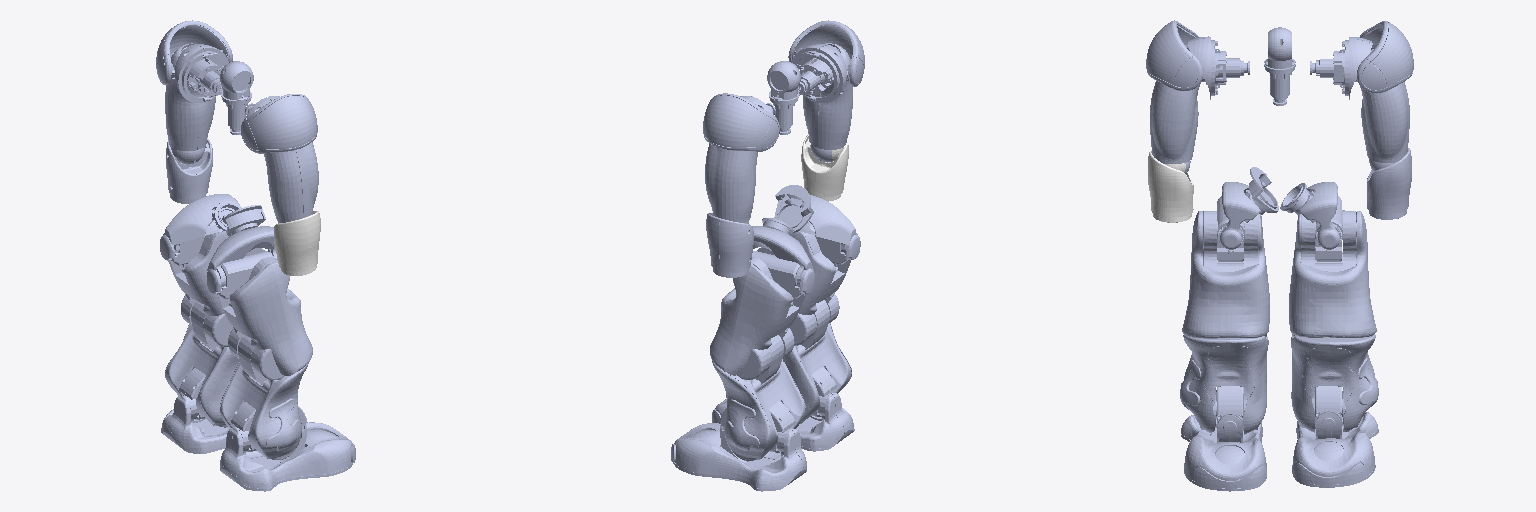
--- What the picture shows (computed from the rendered views, not written in the file) ---
3 views of the same robot in one strip: view 1: azimuth 30°, elevation 25°; view 2: azimuth 150°, elevation 25°; view 3: azimuth 270°, elevation 25° (orthographic).
Robot: NAO68 — 25 links, 24 joints (24 revolute); root link body; default pose: every joint at zero.
Visible links, largest first — view 1: right leg big, right arm big, right foot, right leg small, left arm big, left leg small, left leg big 2, right hip 1, right hand end, left foot, left hand, left hip (+6 smaller); view 2: left leg big 2, left arm big, left leg small, left foot, right arm big, right leg small, right hip 1, right leg big, left hand small, right hand, right foot, right hand end (+5 smaller); view 3: right leg big, left leg big 2, right arm big, left arm big, right leg small, left leg small, right foot, left foot, right hip 1, right hand end, left hand small, left hip (+7 smaller).
Boxes of the visible links, x1=… form: right leg big: x1=217, y1=248, x2=312, y2=379; right arm big: x1=241, y1=94, x2=318, y2=222; right foot: x1=220, y1=422, x2=355, y2=491; right leg small: x1=220, y1=335, x2=308, y2=459; left arm big: x1=156, y1=20, x2=232, y2=150; left leg small: x1=165, y1=301, x2=239, y2=427; left leg big 2: x1=168, y1=231, x2=232, y2=346; right hip 1: x1=207, y1=205, x2=277, y2=278; right hand end: x1=274, y1=211, x2=320, y2=275; left foot: x1=161, y1=395, x2=229, y2=453; left hand: x1=175, y1=44, x2=228, y2=102; left hip: x1=163, y1=194, x2=241, y2=250; left leg big 2: x1=710, y1=247, x2=805, y2=379; left arm big: x1=703, y1=93, x2=779, y2=222; left leg small: x1=712, y1=335, x2=805, y2=460; left foot: x1=671, y1=423, x2=806, y2=491; right arm big: x1=788, y1=20, x2=864, y2=149; right leg small: x1=783, y1=300, x2=851, y2=423; right hip 1: x1=774, y1=185, x2=857, y2=249; right leg big: x1=789, y1=231, x2=850, y2=345; left hand small: x1=706, y1=213, x2=753, y2=277; right hand: x1=792, y1=44, x2=846, y2=102; right foot: x1=712, y1=392, x2=854, y2=451; right hand end: x1=801, y1=134, x2=848, y2=201; right leg big: x1=1182, y1=211, x2=1269, y2=338; left leg big 2: x1=1289, y1=210, x2=1376, y2=337; right arm big: x1=1146, y1=20, x2=1202, y2=163; left arm big: x1=1357, y1=21, x2=1413, y2=162; right leg small: x1=1180, y1=335, x2=1268, y2=434; left leg small: x1=1291, y1=334, x2=1378, y2=432; right foot: x1=1181, y1=390, x2=1266, y2=491; left foot: x1=1292, y1=391, x2=1378, y2=487; right hip 1: x1=1218, y1=167, x2=1278, y2=249; right hand end: x1=1148, y1=150, x2=1193, y2=222; left hand small: x1=1367, y1=148, x2=1411, y2=219; left hip: x1=1280, y1=182, x2=1341, y2=249.
Bounding box of the posed robot: 0.1784 × 0.2797 × 0.4867 m (x, y, z).
21 mesh visuals loaded from 25 distinct referenced files (21 binary STL); not drawn: 4 (reference not matched to a file when rendering).

The robot description file, URDF, robot "NAO68":
<?xml version="1.0" encoding="utf-8"?>
<!-- This URDF was automatically created by SolidWorks to URDF Exporter! Originally created by Stephen Brawner ([email redacted]) 
     Commit Version: 1.6.0-4-g7f85cfe  Build Version: 1.6.7995.38578
     For more information, please see http://wiki.ros.org/sw_urdf_exporter -->
<robot
  name="NAO68">
  <link
    name="body">
    <inertial>
      <origin
        xyz="0 0 0"
        rpy="0 0 0" />
      <mass
        value="1.73988259377685E-17" />
      <inertia
        ixx="4.1555891513169E-20"
        ixy="2.32846932315302E-22"
        ixz="-1.35584681408591E-23"
        iyy="2.46093777747506E-20"
        iyz="-9.18564243044319E-23"
        izz="2.30289113809148E-20" />
    </inertial>
    <visual>
      <origin
        xyz="0 0 0"
        rpy="0 0 0" />
      <geometry>
        <mesh
          filename="package://NAO68/meshes/body.STL" />
      </geometry>
      <material
        name="">
        <color
          rgba="1 1 1 1" />
      </material>
    </visual>
    <collision>
      <origin
        xyz="0 0 0"
        rpy="0 0 0" />
      <geometry>
        <mesh
          filename="package://NAO68/meshes/body.STL" />
      </geometry>
    </collision>
  </link>
  <link
    name="head1">
    <inertial>
      <origin
        xyz="6.25372997664631E-07 0.000158371027097426 -0.0181638535919461"
        rpy="0 0 0" />
      <mass
        value="3.64829046451713E-18" />
      <inertia
        ixx="1.6339605473873E-21"
        ixy="2.76456201754414E-26"
        ixz="1.79084557882726E-25"
        iyy="1.69964135382535E-21"
        iyz="-5.63817700649132E-24"
        izz="3.63773672347732E-22" />
    </inertial>
    <visual>
      <origin
        xyz="0 0 0"
        rpy="0 0 0" />
      <geometry>
        <mesh
          filename="package://NAO68/meshes/head1.STL" />
      </geometry>
      <material
        name="">
        <color
          rgba="0.792156862745098 0.819607843137255 0.933333333333333 1" />
      </material>
    </visual>
    <collision>
      <origin
        xyz="0 0 0"
        rpy="0 0 0" />
      <geometry>
        <mesh
          filename="package://NAO68/meshes/head1.STL" />
      </geometry>
    </collision>
  </link>
  <joint
    name="neck"
    type="revolute">
    <origin
      xyz="0.47504 -0.47689 0.58122"
      rpy="0 0 0.0017099" />
    <parent
      link="body" />
    <child
      link="head1" />
    <axis
      xyz="0 0 -1" />
    <limit
      lower="-3.14"
      upper="3.14"
      effort="0"
      velocity="0" />
  </joint>
  <link
    name="head2">
    <inertial>
      <origin
        xyz="-0.474220313904524 0.581224229153061 0.477705818477059"
        rpy="0 0 0" />
      <mass
        value="1.11438377083869E-17" />
      <inertia
        ixx="1.85775699859269E-20"
        ixy="1.11395918027865E-21"
        ixz="-1.12557586572029E-22"
        iyy="1.84946247546707E-20"
        iyz="-4.54506669612874E-23"
        izz="1.34829394346157E-20" />
    </inertial>
    <visual>
      <origin
        xyz="0 0 0"
        rpy="0 0 0" />
      <geometry>
        <mesh
          filename="package://NAO68/meshes/head2.STL" />
      </geometry>
      <material
        name="">
        <color
          rgba="0.792156862745098 0.819607843137255 0.933333333333333 1" />
      </material>
    </visual>
    <collision>
      <origin
        xyz="0 0 0"
        rpy="0 0 0" />
      <geometry>
        <mesh
          filename="package://NAO68/meshes/head2.STL" />
      </geometry>
    </collision>
  </link>
  <joint
    name="neck2"
    type="revolute">
    <origin
      xyz="0 0 0"
      rpy="-1.5708 0 0" />
    <parent
      link="head1" />
    <child
      link="head2" />
    <axis
      xyz="0 0 -1" />
    <limit
      lower="-3.14"
      upper="3.14"
      effort="0"
      velocity="0" />
  </joint>
  <link
    name="left hand">
    <inertial>
      <origin
        xyz="0.000231357564223156 -0.00190218499329953 -0.0197769966525416"
        rpy="0 0 0" />
      <mass
        value="5.5595930385648E-18" />
      <inertia
        ixx="2.61247563040612E-21"
        ixy="-7.83803479971208E-24"
        ixz="-1.5501611725242E-23"
        iyy="2.43764737848018E-21"
        iyz="3.11393945946181E-23"
        izz="1.26967231032274E-21" />
    </inertial>
    <visual>
      <origin
        xyz="0 0 0"
        rpy="0 0 0" />
      <geometry>
        <mesh
          filename="package://NAO68/meshes/left hand.STL" />
      </geometry>
      <material
        name="">
        <color
          rgba="0.792156862745098 0.819607843137255 0.933333333333333 1" />
      </material>
    </visual>
    <collision>
      <origin
        xyz="0 0 0"
        rpy="0 0 0" />
      <geometry>
        <mesh
          filename="package://NAO68/meshes/left hand.STL" />
      </geometry>
    </collision>
  </link>
  <joint
    name="shoulder1"
    type="revolute">
    <origin
      xyz="0.47504 -0.37893 0.55497"
      rpy="-1.5708 0 0" />
    <parent
      link="body" />
    <child
      link="left hand" />
    <axis
      xyz="0 0 -1" />
    <limit
      lower="-3.14"
      upper="3.14"
      effort="0"
      velocity="0" />
  </joint>
  <link
    name="left arm big">
    <inertial>
      <origin
        xyz="-0.546835137086555 -0.378932244590865 -0.484383496439525"
        rpy="0 0 0" />
      <mass
        value="1.98144086306489E-17" />
      <inertia
        ixx="8.56847844201776E-21"
        ixy="-3.45459830960897E-22"
        ixz="-1.42217513387006E-22"
        iyy="1.70024836057973E-20"
        iyz="-1.88487359475286E-23"
        izz="1.46085641985287E-20" />
    </inertial>
    <visual>
      <origin
        xyz="0 0 0"
        rpy="0 0 0" />
      <geometry>
        <mesh
          filename="package://NAO68/meshes/left arm big.STL" />
      </geometry>
      <material
        name="">
        <color
          rgba="0.792156862745098 0.819607843137255 0.933333333333333 1" />
      </material>
    </visual>
    <collision>
      <origin
        xyz="0 0 0"
        rpy="0 0 0" />
      <geometry>
        <mesh
          filename="package://NAO68/meshes/left arm big.STL" />
      </geometry>
    </collision>
  </link>
  <joint
    name="left arm1"
    type="revolute">
    <origin
      xyz="0 0 0"
      rpy="-1.5708 0 -1.5878" />
    <parent
      link="left hand" />
    <child
      link="left arm big" />
    <axis
      xyz="0 0 -1" />
    <limit
      lower="-3.14"
      upper="3.14"
      effort="0"
      velocity="0" />
  </joint>
  <link
    name="left arm wrist">
    <inertial>
      <origin
        xyz="-0.000300627987979141 6.42422987140456E-07 0.0169080996055426"
        rpy="0 0 0" />
      <mass
        value="3.90413440836974E-18" />
      <inertia
        ixx="1.9166000225257E-21"
        ixy="1.1680714133564E-26"
        ixz="-1.79256871620132E-23"
        iyy="1.82365586206386E-21"
        iyz="-7.54555405748239E-26"
        izz="3.89968200127217E-22" />
    </inertial>
    <visual>
      <origin
        xyz="0 0 0"
        rpy="0 0 0" />
      <geometry>
        <mesh
          filename="package://NAO68/meshes/left arm wrist.STL" />
      </geometry>
      <material
        name="">
        <color
          rgba="0.792156862745098 0.819607843137255 0.933333333333333 1" />
      </material>
    </visual>
    <collision>
      <origin
        xyz="0 0 0"
        rpy="0 0 0" />
      <geometry>
        <mesh
          filename="package://NAO68/meshes/left arm wrist.STL" />
      </geometry>
    </collision>
  </link>
  <joint
    name="left arm small 2"
    type="revolute">
    <origin
      xyz="-0.10491 -0.013997 0.00030335"
      rpy="-1.5708 1.5058 -1.5541" />
    <parent
      link="left arm big" />
    <child
      link="left arm wrist" />
    <axis
      xyz="0 0 -1" />
    <limit
      lower="-3.14"
      upper="3.14"
      effort="0"
      velocity="0" />
  </joint>
  <link
    name="left hand small">
    <inertial>
      <origin
        xyz="0.32634 0.44718 0.50689"
        rpy="0 0 0" />
      <mass
        value="6.9084E-18" />
      <inertia
        ixx="1.78E-21"
        ixy="2.0992E-22"
        ixz="-6.6334E-24"
        iyy="1.6795E-21"
        iyz="-1.6648E-23"
        izz="2.2124E-21" />
    </inertial>
    <visual>
      <origin
        xyz="0 0 0"
        rpy="0 0 0" />
      <geometry>
        <mesh
          filename="package://NAO68/meshes/left hand small.STL" />
      </geometry>
      <material
        name="">
        <color
          rgba="0.79216 0.81961 0.93333 1" />
      </material>
    </visual>
    <collision>
      <origin
        xyz="0 0 0"
        rpy="0 0 0" />
      <geometry>
        <mesh
          filename="package://NAO68/meshes/left hand small.STL" />
      </geometry>
    </collision>
  </link>
  <joint
    name="left wrist"
    type="revolute">
    <origin
      xyz="0 0 0"
      rpy="-1.5708 0.0023733 -1.5708" />
    <parent
      link="left arm wrist" />
    <child
      link="left hand small" />
    <axis
      xyz="0 0 1" />
    <limit
      lower="-3.14"
      upper="3.14"
      effort="0"
      velocity="0" />
  </joint>
  <link
    name="left hand end">
    <inertial>
      <origin
        xyz="0.37464 0.47231 -0.33393"
        rpy="0 0 0" />
      <mass
        value="6.2068E-18" />
      <inertia
        ixx="4.3852E-21"
        ixy="-4.4671E-24"
        ixz="5.6214E-22"
        iyy="3.7566E-21"
        iyz="9.5437E-25"
        izz="2.4434E-21" />
    </inertial>
    <visual>
      <origin
        xyz="0 0 0"
        rpy="0 0 0" />
      <geometry>
        <mesh
          filename="package://NAO68/meshes/left hand end.STL" />
      </geometry>
      <material
        name="">
        <color
          rgba="1 1 1 1" />
      </material>
    </visual>
    <collision>
      <origin
        xyz="0 0 0"
        rpy="0 0 0" />
      <geometry>
        <mesh
          filename="package://NAO68/meshes/left hand end.STL" />
      </geometry>
    </collision>
  </link>
  <joint
    name="left hand 2"
    type="revolute">
    <origin
      xyz="0 0.11325 0"
      rpy="1.5708 -0.098584 0" />
    <parent
      link="left hand small" />
    <child
      link="left hand end" />
    <axis
      xyz="0 0 1" />
    <limit
      lower="-3.14"
      upper="3.14"
      effort="0"
      velocity="0" />
  </joint>
  <link
    name="right hand">
    <inertial>
      <origin
        xyz="-0.000336724530452581 -0.00192396358407243 0.0192366627225955"
        rpy="0 0 0" />
      <mass
        value="5.17411528603493E-18" />
      <inertia
        ixx="2.36457520392244E-21"
        ixy="-7.96302539666317E-24"
        ixz="3.73716448794011E-24"
        iyy="2.23773220475309E-21"
        iyz="-3.38012344701264E-23"
        izz="1.21109559600572E-21" />
    </inertial>
    <visual>
      <origin
        xyz="0 0 0"
        rpy="0 0 0" />
      <geometry>
        <mesh
          filename="package://NAO68/meshes/right hand.STL" />
      </geometry>
      <material
        name="">
        <color
          rgba="0.792156862745098 0.819607843137255 0.933333333333333 1" />
      </material>
    </visual>
    <collision>
      <origin
        xyz="0 0 0"
        rpy="0 0 0" />
      <geometry>
        <mesh
          filename="package://NAO68/meshes/right hand.STL" />
      </geometry>
    </collision>
  </link>
  <joint
    name="shoulder2"
    type="revolute">
    <origin
      xyz="0.47504 -0.57484 0.55497"
      rpy="-1.5708 0 0" />
    <parent
      link="body" />
    <child
      link="right hand" />
    <axis
      xyz="0 0 1" />
    <limit
      lower="-3.14"
      upper="3.14"
      effort="0"
      velocity="0" />
  </joint>
  <link
    name="right arm big">
    <inertial>
      <origin
        xyz="-0.511845444117378 -0.574837035011824 -0.521219992048967"
        rpy="0 0 0" />
      <mass
        value="1.64846561332705E-17" />
      <inertia
        ixx="7.69423813547866E-21"
        ixy="6.72217182520053E-22"
        ixz="-4.91053600395591E-22"
        iyy="1.41287894080308E-20"
        iyz="8.34174928713744E-23"
        izz="1.20294459318915E-20" />
    </inertial>
    <visual>
      <origin
        xyz="0 0 0"
        rpy="0 0 0" />
      <geometry>
        <mesh
          filename="package://NAO68/meshes/right arm big.STL" />
      </geometry>
      <material
        name="">
        <color
          rgba="0.792156862745098 0.819607843137255 0.933333333333333 1" />
      </material>
    </visual>
    <collision>
      <origin
        xyz="0 0 0"
        rpy="0 0 0" />
      <geometry>
        <mesh
          filename="package://NAO68/meshes/right arm big.STL" />
      </geometry>
    </collision>
  </link>
  <joint
    name="right arm big 1"
    type="revolute">
    <origin
      xyz="0 0 0"
      rpy="-1.5708 0 -1.6573" />
    <parent
      link="right hand" />
    <child
      link="right arm big" />
    <axis
      xyz="0 0 1" />
    <limit
      lower="-3.14"
      upper="3.14"
      effort="0"
      velocity="0" />
  </joint>
  <link
    name="right arm wirst">
    <inertial>
      <origin
        xyz="0.000236701999197231 2.20681250820975E-05 0.0147214372394816"
        rpy="0 0 0" />
      <mass
        value="3.88316586076598E-18" />
      <inertia
        ixx="1.56210679101218E-21"
        ixy="-1.49422899815827E-26"
        ixz="-1.87170923977323E-23"
        iyy="1.64750762458163E-21"
        iyz="-8.86395640723124E-25"
        izz="3.99134229996595E-22" />
    </inertial>
    <visual>
      <origin
        xyz="0 0 0"
        rpy="0 0 0" />
      <geometry>
        <mesh
          filename="package://NAO68/meshes/right arm wirst.STL" />
      </geometry>
      <material
        name="">
        <color
          rgba="0.792156862745098 0.819607843137255 0.933333333333333 1" />
      </material>
    </visual>
    <collision>
      <origin
        xyz="0 0 0"
        rpy="0 0 0" />
      <geometry>
        <mesh
          filename="package://NAO68/meshes/right arm wirst.STL" />
      </geometry>
    </collision>
  </link>
  <joint
    name="right arm amall 2"
    type="revolute">
    <origin
      xyz="-0.10487 0.014266 0.0003"
      rpy="-1.5704 0.025456 -1.5739" />
    <parent
      link="right arm big" />
    <child
      link="right arm wirst" />
    <axis
      xyz="0.016083 0 0.99987" />
    <limit
      lower="-3.14"
      upper="3.14"
      effort="0"
      velocity="0" />
  </joint>
  <link
    name="right hand end">
    <inertial>
      <origin
        xyz="-0.00303056176871253 0.0284832083389335 -0.00320249750533108"
        rpy="0 0 0" />
      <mass
        value="6.15908776621831E-18" />
      <inertia
        ixx="2.76815214633173E-21"
        ixy="-3.27353309952699E-22"
        ixz="2.70178708356602E-23"
        iyy="2.12707644918625E-21"
        iyz="-3.42237470670638E-23"
        izz="2.56318869796249E-21" />
    </inertial>
    <visual>
      <origin
        xyz="0 0 0"
        rpy="0 0 0" />
      <geometry>
        <mesh
          filename="package://NAO68/meshes/right hand end.STL" />
      </geometry>
      <material
        name="">
        <color
          rgba="1 1 1 1" />
      </material>
    </visual>
    <collision>
      <origin
        xyz="0 0 0"
        rpy="0 0 0" />
      <geometry>
        <mesh
          filename="package://NAO68/meshes/right hand end.STL" />
      </geometry>
    </collision>
  </link>
  <joint
    name="right hand 2"
    type="revolute">
    <origin
      xyz="0 0 0"
      rpy="-1.4848 0 0" />
    <parent
      link="right arm wirst" />
    <child
      link="right hand end" />
    <axis
      xyz="0 0.085844 0.99631" />
    <limit
      lower="-3.14"
      upper="3.14"
      effort="0"
      velocity="0" />
  </joint>
  <link
    name="right hand end 2">
    <inertial>
      <origin
        xyz="0.596996608774289 0.51377159863588 -0.291824876447589"
        rpy="0 0 0" />
      <mass
        value="6.20674431300642E-18" />
      <inertia
        ixx="4.38547970342589E-21"
        ixy="-4.43103555154008E-24"
        ixz="-5.62196034976773E-22"
        iyy="3.75667597489994E-21"
        iyz="-8.13895904431975E-25"
        izz="2.443576685909E-21" />
    </inertial>
    <visual>
      <origin
        xyz="0 0 0"
        rpy="0 0 0" />
      <geometry>
        <mesh
          filename="package://NAO68/meshes/right hand end 2.STL" />
      </geometry>
      <material
        name="">
        <color
          rgba="1 1 1 1" />
      </material>
    </visual>
    <collision>
      <origin
        xyz="0 0 0"
        rpy="0 0 0" />
      <geometry>
        <mesh
          filename="package://NAO68/meshes/right hand end 2.STL" />
      </geometry>
    </collision>
  </link>
  <joint
    name="right hand end 3"
    type="revolute">
    <origin
      xyz="0 0.113080427602968 -0.00975022528825331"
      rpy="1.48477836109706 0.0126377571856202 -0.00108973380374061" />
    <parent
      link="right hand end" />
    <child
      link="right hand end 2" />
    <axis
      xyz="0 0 1" />
    <limit
      lower="-3.14"
      upper="3.14"
      effort="0"
      velocity="0" />
  </joint>
  <link
    name="left hip">
    <inertial>
      <origin
        xyz="0.040248522118935 0.475036465706723 -0.63418177283438"
        rpy="0 0 0" />
      <mass
        value="4.52057686722953E-18" />
      <inertia
        ixx="2.66103426708217E-21"
        ixy="1.40907172878585E-22"
        ixz="-1.59225535701849E-23"
        iyy="1.03483165824365E-21"
        iyz="2.7561310564608E-22"
        izz="2.68598934049288E-21" />
    </inertial>
    <visual>
      <origin
        xyz="0 0 0"
        rpy="0 0 0" />
      <geometry>
        <mesh
          filename="package://NAO68/meshes/left hip.STL" />
      </geometry>
      <material
        name="">
        <color
          rgba="0.792156862745098 0.819607843137255 0.933333333333333 1" />
      </material>
    </visual>
    <collision>
      <origin
        xyz="0 0 0"
        rpy="0 0 0" />
      <geometry>
        <mesh
          filename="package://NAO68/meshes/left hip.STL" />
      </geometry>
    </collision>
  </link>
  <joint
    name="left hip 2"
    type="revolute">
    <origin
      xyz="0.475036465706723 -0.476894234999137 0.419974229153056"
      rpy="0 -0.785398163397459 1.5707963267949" />
    <parent
      link="body" />
    <child
      link="left hip" />
    <axis
      xyz="0 0 1" />
    <limit
      lower="-3.14"
      upper="3.14"
      effort="0"
      velocity="0" />
  </joint>
  <link
    name="left leg big">
    <inertial>
      <origin
        xyz="-0.00462883953431759 -0.00473141052475978 -0.0171568126005021"
        rpy="0 0 0" />
      <mass
        value="9.03902183483721E-18" />
      <inertia
        ixx="5.38838650076551E-21"
        ixy="-4.20398726191118E-22"
        ixz="4.33565885208545E-22"
        iyy="5.40567192504222E-21"
        iyz="4.62144860828014E-22"
        izz="2.02631345532162E-21" />
    </inertial>
    <visual>
      <origin
        xyz="0 0 0"
        rpy="0 0 0" />
      <geometry>
        <mesh
          filename="package://NAO68/meshes/left leg big.STL" />
      </geometry>
      <material
        name="">
        <color
          rgba="0.792156862745098 0.819607843137255 0.933333333333333 1" />
      </material>
    </visual>
    <collision>
      <origin
        xyz="0 0 0"
        rpy="0 0 0" />
      <geometry>
        <mesh
          filename="package://NAO68/meshes/left leg big.STL" />
      </geometry>
    </collision>
  </link>
  <joint
    name="left leg big 1"
    type="revolute">
    <origin
      xyz="0 0.00109999869500277 -0.0724799999999993"
      rpy="1.5707963267949 0 0" />
    <parent
      link="left hip" />
    <child
      link="left leg big" />
    <axis
      xyz="0.0017029359842846 0 0.999998550003465" />
    <limit
      lower="-3.14"
      upper="3.14"
      effort="0"
      velocity="0" />
  </joint>
  <link
    name="left leg big 2">
    <inertial>
      <origin
        xyz="-0.366829400441054 -0.473867236538863 0.427353198635747"
        rpy="0 0 0" />
      <mass
        value="3.03744060462066E-17" />
      <inertia
        ixx="2.28496700257108E-20"
        ixy="4.78902359098332E-21"
        ixz="-1.50368297604557E-21"
        iyy="4.93510120716424E-20"
        iyz="2.42404389632594E-22"
        izz="3.9570590365604E-20" />
    </inertial>
    <visual>
      <origin
        xyz="0 0 0"
        rpy="0 0 0" />
      <geometry>
        <mesh
          filename="package://NAO68/meshes/left leg big 2.STL" />
      </geometry>
      <material
        name="">
        <color
          rgba="0.792156862745098 0.819607843137255 0.933333333333333 1" />
      </material>
    </visual>
    <collision>
      <origin
        xyz="0 0 0"
        rpy="0 0 0" />
      <geometry>
        <mesh
          filename="package://NAO68/meshes/left leg big 2.STL" />
      </geometry>
    </collision>
  </link>
  <joint
    name="left leg big 3"
    type="revolute">
    <origin
      xyz="0 0 0"
      rpy="1.57199674981344 0.00120788205022478 0.78230132291305" />
    <parent
      link="left leg big" />
    <child
      link="left leg big 2" />
    <axis
      xyz="0 0 -1" />
    <limit
      lower="-3.14"
      upper="3.14"
      effort="0"
      velocity="0" />
  </joint>
  <link
    name="left leg small">
    <inertial>
      <origin
        xyz="-0.257088071600062 -0.480438920947403 0.426753198635746"
        rpy="0 0 0" />
      <mass
        value="2.17324013064851E-17" />
      <inertia
        ixx="1.0643034248658E-20"
        ixy="-2.90244026684464E-21"
        ixz="6.88609899186874E-22"
        iyy="3.74338644340874E-20"
        iyz="1.42314353018173E-22"
        izz="3.55875077181444E-20" />
    </inertial>
    <visual>
      <origin
        xyz="0 0 0"
        rpy="0 0 0" />
      <geometry>
        <mesh
          filename="package://NAO68/meshes/left leg small.STL" />
      </geometry>
      <material
        name="">
        <color
          rgba="0.792156862745098 0.819607843137255 0.933333333333333 1" />
      </material>
    </visual>
    <collision>
      <origin
        xyz="0 0 0"
        rpy="0 0 0" />
      <geometry>
        <mesh
          filename="package://NAO68/meshes/left leg small.STL" />
      </geometry>
    </collision>
  </link>
  <joint
    name="left ankle 2"
    type="revolute">
    <origin
      xyz="-0.0999924847971221 0.00122632663556776 0.000600000000000822"
      rpy="0 0 -0.0204043420180219" />
    <parent
      link="left leg big 2" />
    <child
      link="left leg small" />
    <axis
      xyz="0 0 1" />
    <limit
      lower="-3.14"
      upper="3.14"
      effort="0"
      velocity="0" />
  </joint>
  <link
    name="left ankle">
    <inertial>
      <origin
        xyz="-0.17232 -0.47488 0.42715"
        rpy="0 0 0" />
      <mass
        value="1.3015E-17" />
      <inertia
        ixx="4.8549E-21"
        ixy="2.5763E-22"
        ixz="5.9846E-24"
        iyy="4.146E-21"
        iyz="-3.5174E-24"
        izz="7.0988E-21" />
    </inertial>
    <visual>
      <origin
        xyz="0 0 0"
        rpy="0 0 0" />
      <geometry>
        <mesh
          filename="package://NAO68/meshes/left ankle.STL" />
      </geometry>
      <material
        name="">
        <color
          rgba="0.79216 0.81961 0.93333 1" />
      </material>
    </visual>
    <collision>
      <origin
        xyz="0 0 0"
        rpy="0 0 0" />
      <geometry>
        <mesh
          filename="package://NAO68/meshes/left ankle.STL" />
      </geometry>
    </collision>
  </link>
  <joint
    name="left ankle2"
    type="revolute">
    <origin
      xyz="-0.102746579116211 0.000583796208956766 -0.000399999999999623"
      rpy="0 0 0.0376068198832301" />
    <parent
      link="left leg small" />
    <child
      link="left ankle" />
    <axis
      xyz="0 0 -1" />
    <limit
      lower="-3.14"
      upper="3.14"
      effort="0"
      velocity="0" />
  </joint>
  <link
    name="left foot">
    <inertial>
      <origin
        xyz="-0.03219 0.0042166 -0.031058"
        rpy="0 0 0" />
      <mass
        value="2.1641E-17" />
      <inertia
        ixx="5.1574E-20"
        ixy="2.4046E-23"
        ixz="-1.1553E-22"
        iyy="4.4176E-20"
        iyz="-1.2733E-21"
        izz="1.2071E-20" />
    </inertial>
    <visual>
      <origin
        xyz="0 0 0"
        rpy="0 0 0" />
      <geometry>
        <mesh
          filename="package://NAO68/meshes/left foot.STL" />
      </geometry>
      <material
        name="">
        <color
          rgba="0.79216 0.81961 0.93333 1" />
      </material>
    </visual>
    <collision>
      <origin
        xyz="0 0 0"
        rpy="0 0 0" />
      <geometry>
        <mesh
          filename="package://NAO68/meshes/left foot.STL" />
      </geometry>
    </collision>
  </link>
  <joint
    name="left foot 2"
    type="revolute">
    <origin
      xyz="0 0 0"
      rpy="1.5708 0 0" />
    <parent
      link="left ankle" />
    <child
      link="left foot" />
    <axis
      xyz="0 0 -1" />
    <limit
      lower="-3.14"
      upper="3.14"
      effort="0"
      velocity="0" />
  </joint>
  <link
    name="right hip 1">
    <inertial>
      <origin
        xyz="0.63418177283438 0.475036465706723 0.040248522118935"
        rpy="0 0 0" />
      <mass
        value="5.24861974936838E-18" />
      <inertia
        ixx="2.75482218587176E-21"
        ixy="-1.43700119366448E-22"
        ixz="6.22372284374278E-23"
        iyy="1.155826493167E-21"
        iyz="2.57593000748196E-22"
        izz="2.88289880541827E-21" />
    </inertial>
    <visual>
      <origin
        xyz="0 0 0"
        rpy="0 0 0" />
      <geometry>
        <mesh
          filename="package://NAO68/meshes/right hip 1.STL" />
      </geometry>
      <material
        name="">
        <color
          rgba="0.792156862745098 0.819607843137255 0.933333333333333 1" />
      </material>
    </visual>
    <collision>
      <origin
        xyz="0 0 0"
        rpy="0 0 0" />
      <geometry>
        <mesh
          filename="package://NAO68/meshes/right hip 1.STL" />
      </geometry>
    </collision>
  </link>
  <joint
    name="right hip 2"
    type="revolute">
    <origin
      xyz="0.475036465706723 -0.476894234999137 0.419974229153056"
      rpy="0 0.785398163397438 1.5707963267949" />
    <parent
      link="body" />
    <child
      link="right hip 1" />
    <axis
      xyz="0 0 1" />
    <limit
      lower="-3.14"
      upper="3.14"
      effort="0"
      velocity="0" />
  </joint>
  <link
    name="right hip 3">
    <inertial>
      <origin
        xyz="0.0045425790462118 0.00473079998472287 0.017147324883173"
        rpy="0 0 0" />
      <mass
        value="9.0181479560913E-18" />
      <inertia
        ixx="5.37199175148441E-21"
        ixy="-4.24360499385528E-22"
        ixz="4.51405931770755E-22"
        iyy="5.37919801188414E-21"
        iyz="4.68009936125962E-22"
        izz="2.0245806516641E-21" />
    </inertial>
    <visual>
      <origin
        xyz="0 0 0"
        rpy="0 0 0" />
      <geometry>
        <mesh
          filename="package://NAO68/meshes/right hip 3.STL" />
      </geometry>
      <material
        name="">
        <color
          rgba="0.792156862745098 0.819607843137255 0.933333333333333 1" />
      </material>
    </visual>
    <collision>
      <origin
        xyz="0 0 0"
        rpy="0 0 0" />
      <geometry>
        <mesh
          filename="package://NAO68/meshes/right hip 3.STL" />
      </geometry>
    </collision>
  </link>
  <joint
    name="right hip 4"
    type="revolute">
    <origin
      xyz="0 0.000399999713572796 -0.0724056380810744"
      rpy="-1.5707963267949 0 0" />
    <parent
      link="right hip 1" />
    <child
      link="right hip 3" />
    <axis
      xyz="0.0016470116894098 0 -0.999998643675328" />
    <limit
      lower="-3.14"
      upper="3.14"
      effort="0"
      velocity="0" />
  </joint>
  <link
    name="right leg big">
    <inertial>
      <origin
        xyz="-0.36770322223629 -0.473562486173606 0.529802413190317"
        rpy="0 0 0" />
      <mass
        value="2.97663269433919E-17" />
      <inertia
        ixx="2.22202899735969E-20"
        ixy="4.63065041043333E-21"
        ixz="1.31438311690924E-21"
        iyy="4.78976362005858E-20"
        iyz="-2.10508186450956E-22"
        izz="3.8637851506708E-20" />
    </inertial>
    <visual>
      <origin
        xyz="0 0 0"
        rpy="0 0 0" />
      <geometry>
        <mesh
          filename="package://NAO68/meshes/right leg big.STL" />
      </geometry>
      <material
        name="">
        <color
          rgba="0.792156862745098 0.819607843137255 0.933333333333333 1" />
      </material>
    </visual>
    <collision>
      <origin
        xyz="0 0 0"
        rpy="0 0 0" />
      <geometry>
        <mesh
          filename="package://NAO68/meshes/right leg big.STL" />
      </geometry>
    </collision>
  </link>
  <joint
    name="right leg big  2"
    type="revolute">
    <origin
      xyz="0 0 0"
      rpy="-1.56959590379779 0.0011930048696728 -2.35309476762726" />
    <parent
      link="right hip 3" />
    <child
      link="right leg big" />
    <axis
      xyz="0 0 1" />
    <limit
      lower="-3.14"
      upper="3.14"
      effort="0"
      velocity="0" />
  </joint>
  <link
    name="right leg small">
    <inertial>
      <origin
        xyz="-0.227531237809799 -0.495357230748695 0.530602413190317"
        rpy="0 0 0" />
      <mass
        value="2.06596600447776E-17" />
      <inertia
        ixx="1.03886056447953E-20"
        ixy="-2.80097773559894E-21"
        ixz="-5.24481330482526E-22"
        iyy="3.72763449057132E-20"
        iyz="-1.00133188645037E-22"
        izz="3.53574088505253E-20" />
    </inertial>
    <visual>
      <origin
        xyz="0 0 0"
        rpy="0 0 0" />
      <geometry>
        <mesh
          filename="package://NAO68/meshes/right leg small.STL" />
      </geometry>
      <material
        name="">
        <color
          rgba="0.792156862745098 0.819607843137255 0.933333333333333 1" />
      </material>
    </visual>
    <collision>
      <origin
        xyz="0 0 0"
        rpy="0 0 0" />
      <geometry>
        <mesh
          filename="package://NAO68/meshes/right leg small.STL" />
      </geometry>
    </collision>
  </link>
  <joint
    name="right leg small 2"
    type="revolute">
    <origin
      xyz="-0.099992 0.0012847 -0.0008"
      rpy="0 0 -0.082781" />
    <parent
      link="right leg big" />
    <child
      link="right leg small" />
    <axis
      xyz="0 0 1" />
    <limit
      lower="-3.14"
      upper="3.14"
      effort="0"
      velocity="0" />
  </joint>
  <link
    name="right ankle">
    <inertial>
      <origin
        xyz="-0.177698615978288 -0.479533024812933 0.530202413190317"
        rpy="0 0 0" />
      <mass
        value="1.26126170632208E-17" />
      <inertia
        ixx="4.6945439154778E-21"
        ixy="2.4832703556955E-22"
        ixz="-4.04136568604938E-24"
        iyy="3.8480044252495E-21"
        iyz="6.90300721901712E-24"
        izz="6.70380735036329E-21" />
    </inertial>
    <visual>
      <origin
        xyz="0 0 0"
        rpy="0 0 0" />
      <geometry>
        <mesh
          filename="package://NAO68/meshes/right ankle.STL" />
      </geometry>
      <material
        name="">
        <color
          rgba="0.792156862745098 0.819607843137255 0.933333333333333 1" />
      </material>
    </visual>
    <collision>
      <origin
        xyz="0 0 0"
        rpy="0 0 0" />
      <geometry>
        <mesh
          filename="package://NAO68/meshes/right ankle.STL" />
      </geometry>
    </collision>
  </link>
  <joint
    name="right ankle 2"
    type="revolute">
    <origin
      xyz="-0.10275 0.00058381 0.0004"
      rpy="0 0 0.10838" />
    <parent
      link="right leg small" />
    <child
      link="right ankle" />
    <axis
      xyz="0 0 1" />
    <limit
      lower="-3.14"
      upper="3.14"
      effort="0"
      velocity="0" />
  </joint>
  <link
    name="right foot">
    <inertial>
      <origin
        xyz="-0.032799 -0.0032018 -0.031125"
        rpy="0 0 0" />
      <mass
        value="2.1727E-17" />
      <inertia
        ixx="5.1819E-20"
        ixy="-2.4205E-22"
        ixz="-7.3902E-23"
        iyy="4.4346E-20"
        iyz="1.5634E-21"
        izz="1.2159E-20" />
    </inertial>
    <visual>
      <origin
        xyz="0 0 0"
        rpy="0 0 0" />
      <geometry>
        <mesh
          filename="package://NAO68/meshes/right foot.STL" />
      </geometry>
      <material
        name="">
        <color
          rgba="0.79216 0.81961 0.93333 1" />
      </material>
    </visual>
    <collision>
      <origin
        xyz="0 0 0"
        rpy="0 0 0" />
      <geometry>
        <mesh
          filename="package://NAO68/meshes/right foot.STL" />
      </geometry>
    </collision>
  </link>
  <joint
    name="right foot 2"
    type="revolute">
    <origin
      xyz="0 0 0"
      rpy="1.5708 0 0" />
    <parent
      link="right ankle" />
    <child
      link="right foot" />
    <axis
      xyz="0 0 -1" />
    <limit
      lower="-3.14"
      upper="3.14"
      effort="0"
      velocity="0" />
  </joint>
</robot>
